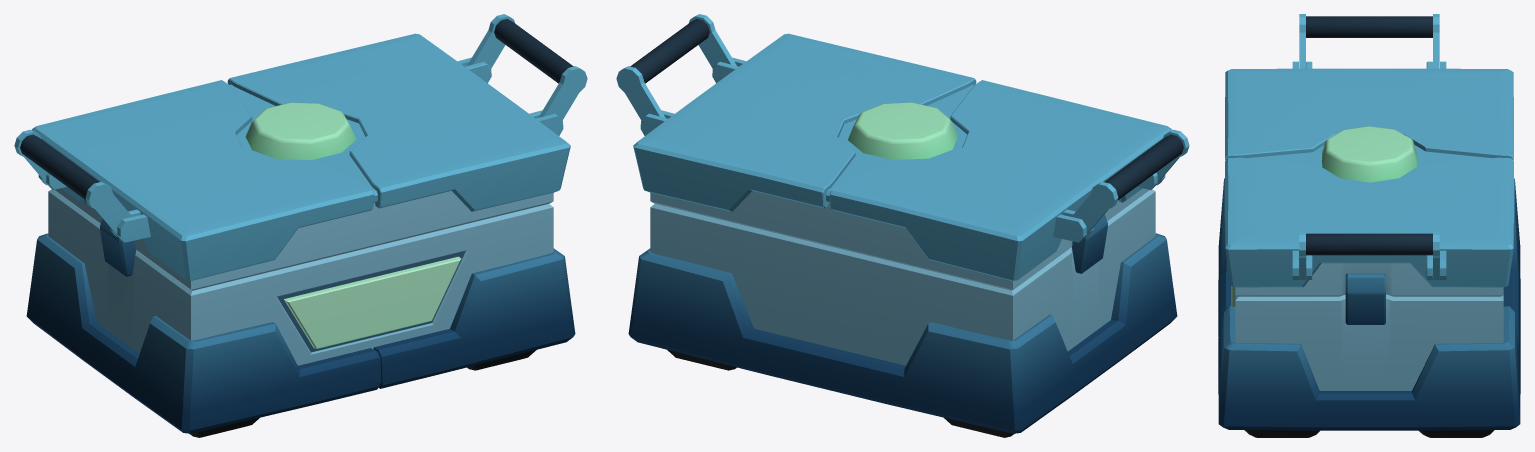
Rendered from SM_Coffre_04.fbx.
3 renders of one model, left to right at view 1: azimuth 30°, elevation 25°; view 2: azimuth 150°, elevation 25°; view 3: azimuth 270°, elevation 25°, orthographic. The views are drawn at different scales.
Visible parts, largest first — view 1: Coffre_04_Haut, Coffre_04_Bas; view 2: Coffre_04_Haut, Coffre_04_Bas; view 3: Coffre_04_Haut, Coffre_04_Bas.
Boxes of the visible parts, x1,y1,x2,y2 form: Coffre_04_Haut: (14, 14, 587, 290); Coffre_04_Bas: (26, 189, 575, 437); Coffre_04_Haut: (616, 14, 1189, 290); Coffre_04_Bas: (628, 189, 1177, 437); Coffre_04_Haut: (1225, 14, 1513, 324); Coffre_04_Bas: (1218, 178, 1520, 437).
Bounding box in the file's own units: 5.82 × 2.85 × 3.25.
